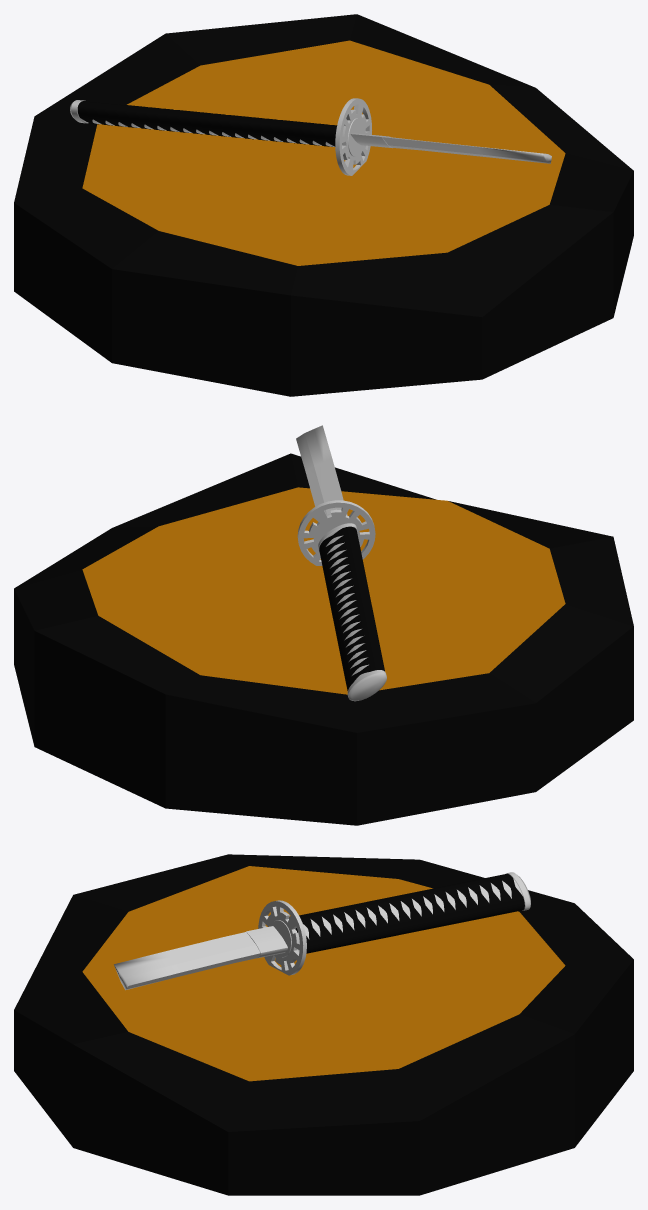
The model's file is Save.fbx.
3 renders of one model, top to bottom at view 1: azimuth 30°, elevation 25°; view 2: azimuth 150°, elevation 25°; view 3: azimuth 270°, elevation 25°, orthographic. The views are drawn at different scales.
Parts seen in each view (by area): view 1: SaveSword; view 2: SaveSword; view 3: SaveSword.
Boxes of the visible parts, x1,y1,x2,y2 form: SaveSword: (14,14,633,396); SaveSword: (14,425,633,825); SaveSword: (14,854,633,1195).
Size of the model in its own units: 114 by 36.6 by 120.
